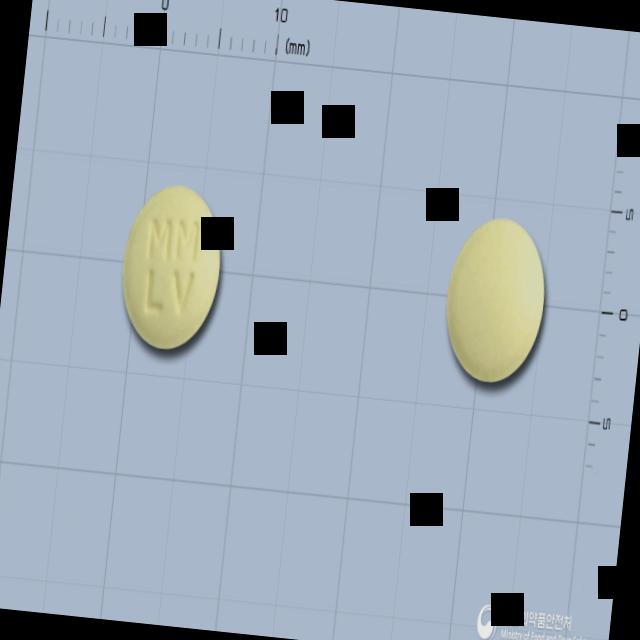Levofuracin: (113, 177, 229, 355)
